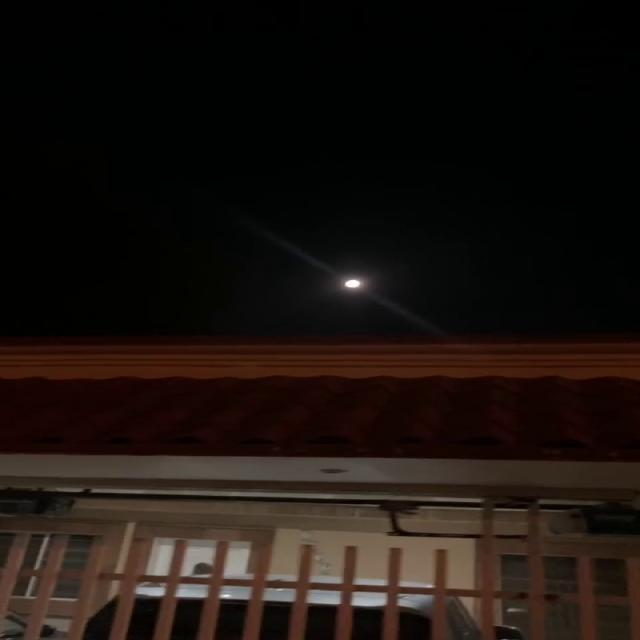moon: (338, 275, 371, 298)
